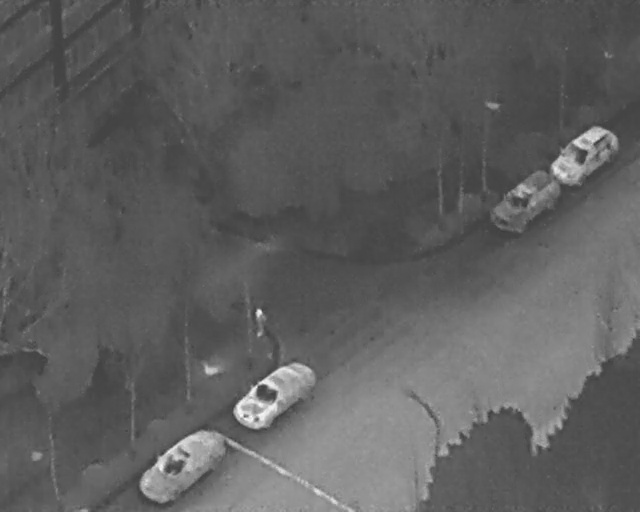Car: (133, 416, 231, 511), (226, 348, 323, 441), (486, 164, 567, 243), (544, 116, 624, 195)
Person: (255, 306, 265, 336)
